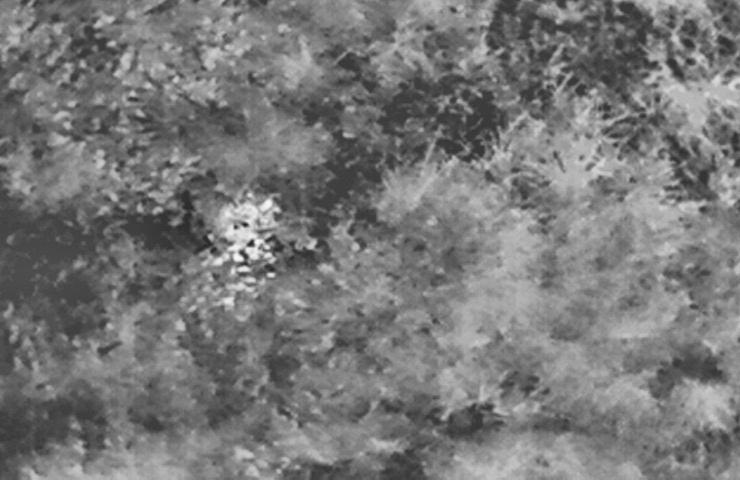landmines: (213, 198, 285, 262)
